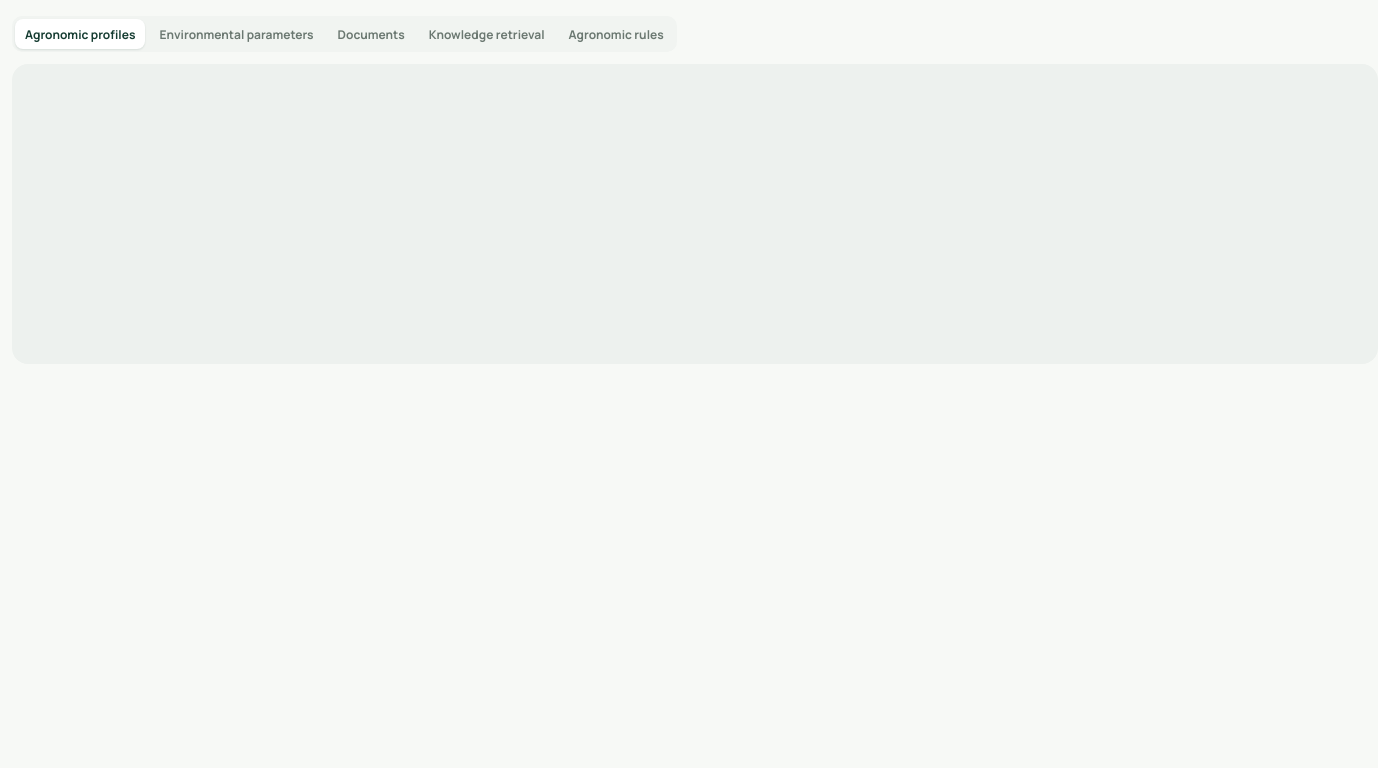
Test: AI Knowledge Center › marks illustrative values and what nothing measures here
Click the tab "Environmental parameters": (237, 34) [150,19,324,49]
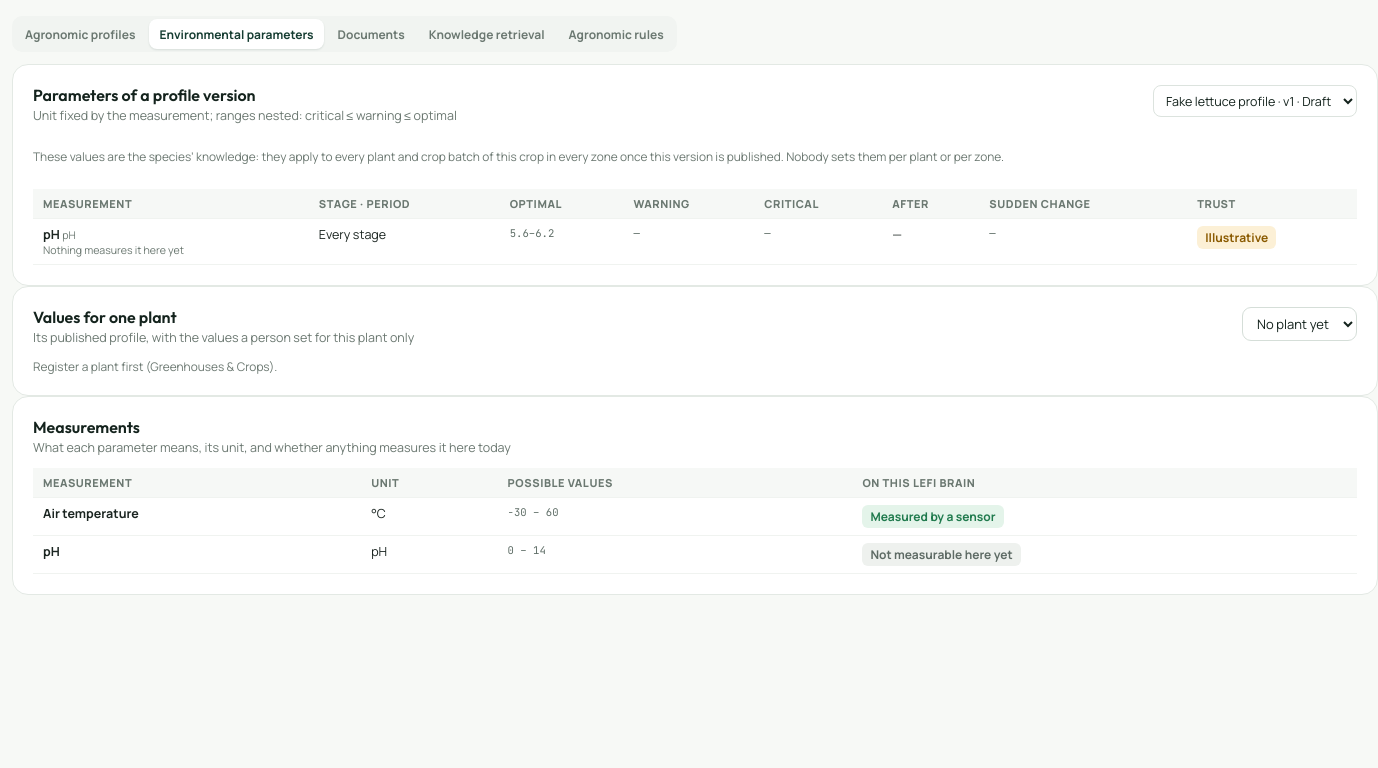
Expected: the text "5.6–6.2" is shown, [500,218,624,264]
Expected: the text "Illustrative" is shown, [1197,226,1276,249]
Expected: the text "Nothing measures it here yet" is shown, [43,243,184,257]
